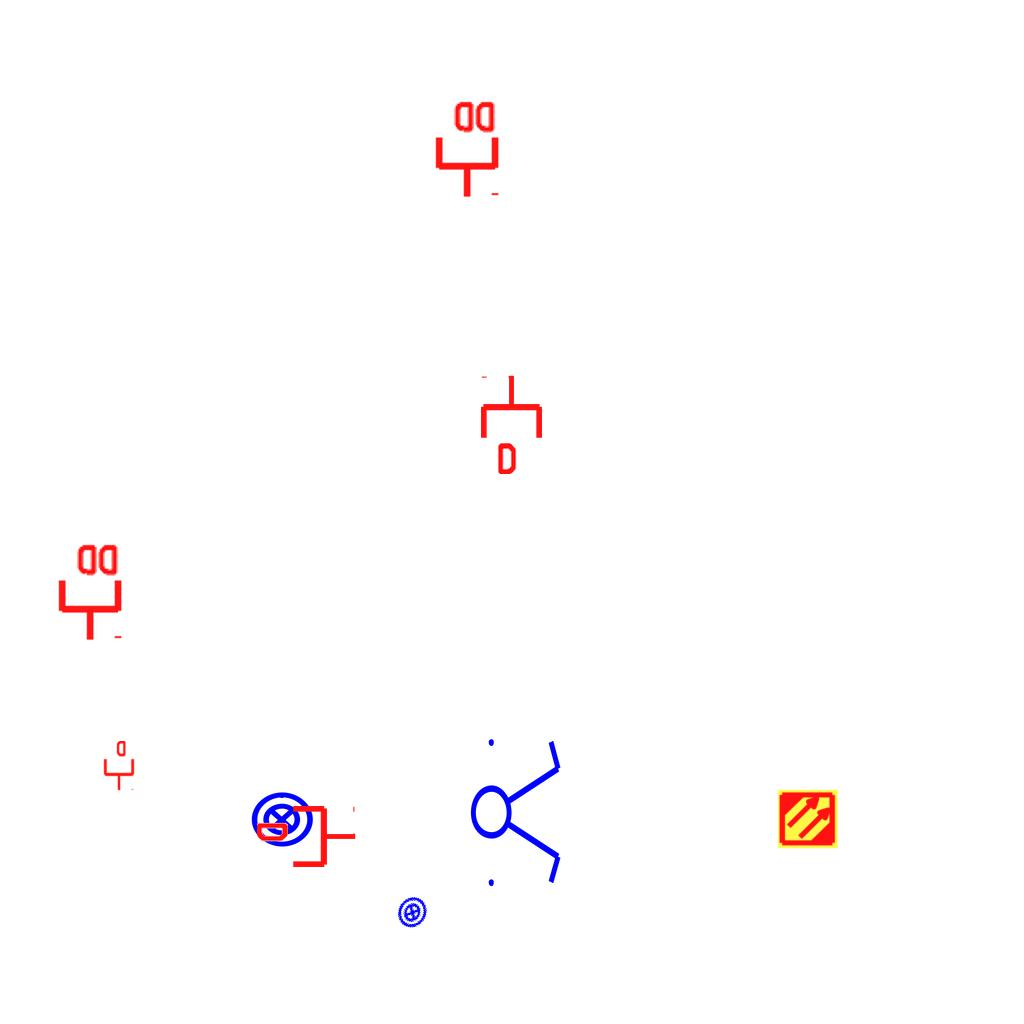ASR_Ansaugrauchmelder: (777, 788, 839, 850)
Datenanschluss_einfach: (477, 374, 546, 474), (257, 802, 357, 871), (102, 741, 136, 791)
Datenanschluss_zweifach: (431, 97, 500, 200), (54, 540, 123, 643)
Serienschalter: (469, 727, 565, 895)
Taster_beleuchtet: (249, 787, 315, 853), (390, 890, 435, 935)
